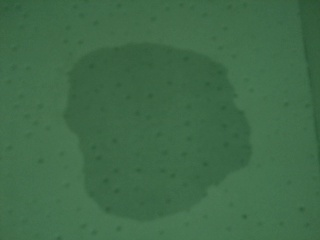Water_detected: (76, 61, 224, 202)
